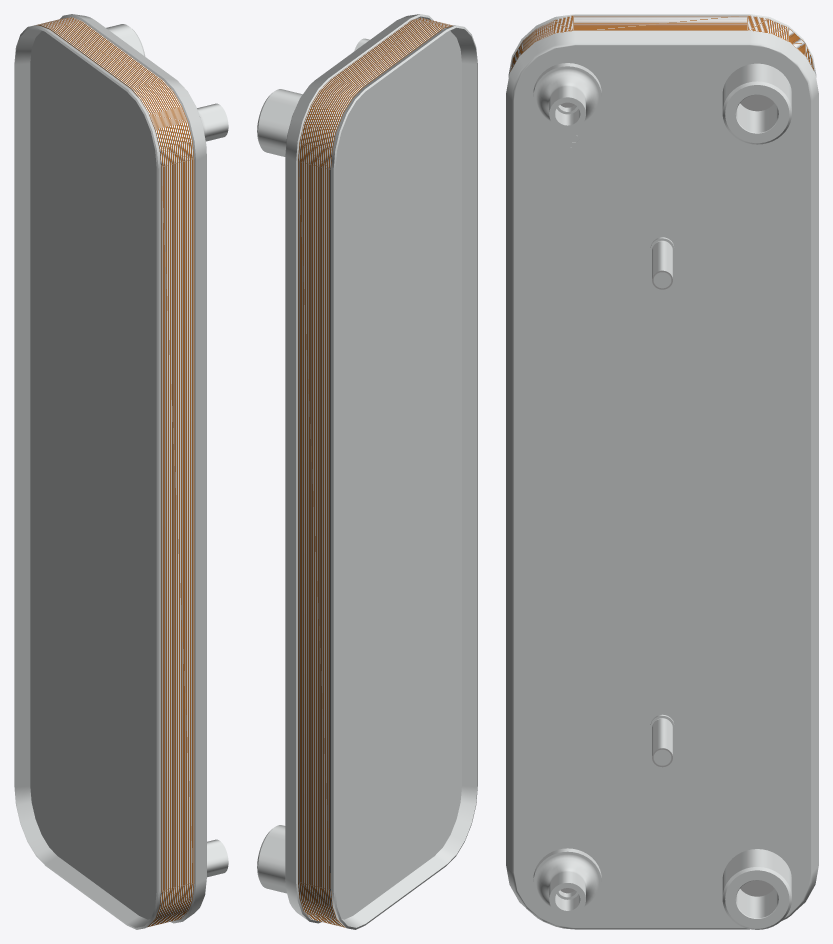
Rendered from MPHE Double Wall.glb.
3 renders of one model, left to right at view 1: azimuth 30°, elevation 25°; view 2: azimuth 150°, elevation 25°; view 3: azimuth 270°, elevation 25°, orthographic. The views are drawn at different scales.
Visible parts, largest first — view 1: 4622A7B4C43E27DA77602A89C606E31FC89E4224|:|B8A4396250C5_4beb, Plane001, BA73AA392D381722510D54E19301820F927DD48D|:|B8A4396250C5_a845, 1FF92E5285F4D749CB0681624242D4655968A3E7|:|B8A4396250C5_e0f, 1FF92E5285F4D749CB0681624242D4655968A3E7|:|B8A4396250C5_e0f9, 50515CF0911A009BA3385063306AF0D23C138C15|:|B8A4396250C5_4c6; view 2: 4622A7B4C43E27DA77602A89C606E31FC89E4224|:|B8A4396250C5_4beb, Plane001, BA73AA392D381722510D54E19301820F927DD48D|:|B8A4396250C5_a845, 50515CF0911A009BA3385063306AF0D23C138C15|:|B8A4396250C5_4c6, 50515CF0911A009BA3385063306AF0D23C138C15|:|B8A4396250C5_4c65; view 3: BA73AA392D381722510D54E19301820F927DD48D|:|B8A4396250C5_a845, Plane001, 50515CF0911A009BA3385063306AF0D23C138C15|:|B8A4396250C5_4c65, 50515CF0911A009BA3385063306AF0D23C138C15|:|B8A4396250C5_4c6, 1FF92E5285F4D749CB0681624242D4655968A3E7|:|B8A4396250C5_e0f, 1FF92E5285F4D749CB0681624242D4655968A3E7|:|B8A4396250C5_e0f9, 12527B98113FA88FBDB2765998143A4AEF599A4A|:|B8A4396250C5_f08, 12527B98113FA88FBDB2765998143A4AEF599A4A|:|B8A4396250C5_f089, CE41503337EE9C66864512F8F5D1469371CBCADA|:|B8A4396250C5_fa92, 4622A7B4C43E27DA77602A89C606E31FC89E4224|:|B8A4396250C5_4beb.
Boxes of the visible parts, x1,y1,x2,y2 form: 4622A7B4C43E27DA77602A89C606E31FC89E4224|:|B8A4396250C5_4beb: (14,25,160,929); Plane001: (34,17,194,927); BA73AA392D381722510D54E19301820F927DD48D|:|B8A4396250C5_a845: (60,14,206,923); 1FF92E5285F4D749CB0681624242D4655968A3E7|:|B8A4396250C5_e0f: (197,103,228,141); 1FF92E5285F4D749CB0681624242D4655968A3E7|:|B8A4396250C5_e0f9: (207,839,228,877); 50515CF0911A009BA3385063306AF0D23C138C15|:|B8A4396250C5_4c6: (106,24,145,56); 4622A7B4C43E27DA77602A89C606E31FC89E4224|:|B8A4396250C5_4beb: (331,25,477,929); Plane001: (298,17,452,927); BA73AA392D381722510D54E19301820F927DD48D|:|B8A4396250C5_a845: (285,14,433,923); 50515CF0911A009BA3385063306AF0D23C138C15|:|B8A4396250C5_4c6: (257,89,302,156); 50515CF0911A009BA3385063306AF0D23C138C15|:|B8A4396250C5_4c65: (257,825,286,893); BA73AA392D381722510D54E19301820F927DD48D|:|B8A4396250C5_a845: (506,30,818,929); Plane001: (510,15,814,71); 50515CF0911A009BA3385063306AF0D23C138C15|:|B8A4396250C5_4c65: (722,849,791,929); 50515CF0911A009BA3385063306AF0D23C138C15|:|B8A4396250C5_4c6: (722,63,791,144); 1FF92E5285F4D749CB0681624242D4655968A3E7|:|B8A4396250C5_e0f: (533,63,601,130); 1FF92E5285F4D749CB0681624242D4655968A3E7|:|B8A4396250C5_e0f9: (533,848,601,915); 12527B98113FA88FBDB2765998143A4AEF599A4A|:|B8A4396250C5_f08: (650,237,674,288); 12527B98113FA88FBDB2765998143A4AEF599A4A|:|B8A4396250C5_f089: (650,714,674,765); CE41503337EE9C66864512F8F5D1469371CBCADA|:|B8A4396250C5_fa92: (560,94,774,896); 4622A7B4C43E27DA77602A89C606E31FC89E4224|:|B8A4396250C5_4beb: (508,14,816,77).
Bounding box in the file's own units: 0.3126 × 2.22 × 0.7015.
3 materials, 1 textured.
